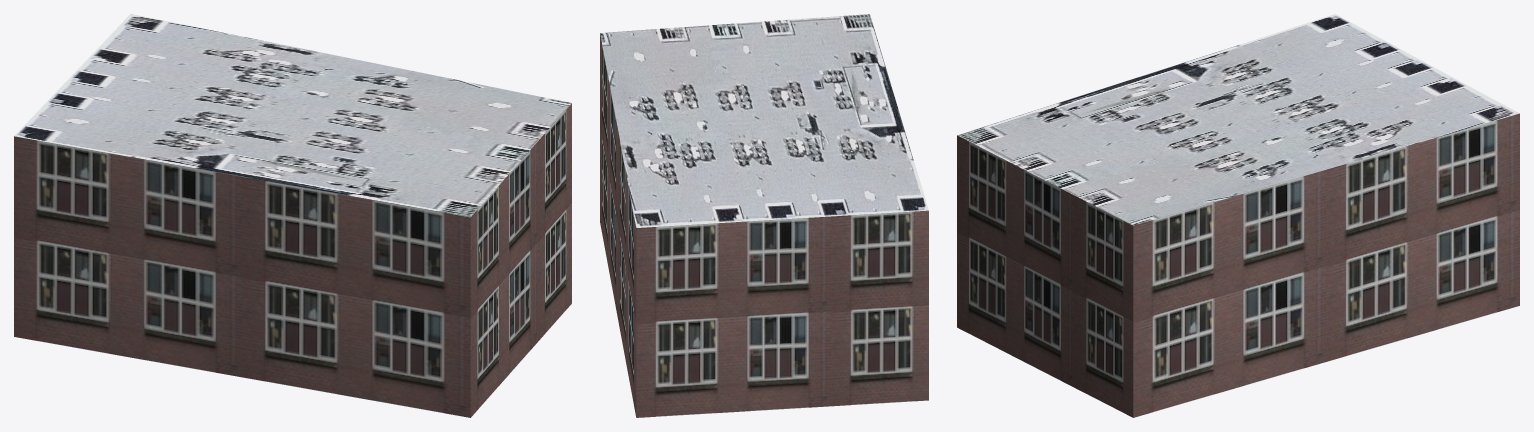
File: ResTex__1529.fbx
3 renders of one model, left to right at view 1: azimuth 30°, elevation 25°; view 2: azimuth 150°, elevation 25°; view 3: azimuth 270°, elevation 25°, orthographic. The views are drawn at different scales.
Visible parts, largest first — view 1: CityEngineMaterial_12_m, CityEngineMaterial_2_m; view 2: CityEngineMaterial_12_m, CityEngineMaterial_2_m; view 3: CityEngineMaterial_12_m, CityEngineMaterial_2_m.
Boxes of the visible parts, x1,y1,x2,y2 form: CityEngineMaterial_12_m: [14, 103, 571, 417]; CityEngineMaterial_2_m: [14, 14, 571, 217]; CityEngineMaterial_12_m: [600, 33, 928, 417]; CityEngineMaterial_2_m: [600, 14, 928, 227]; CityEngineMaterial_12_m: [957, 113, 1519, 417]; CityEngineMaterial_2_m: [957, 14, 1519, 225].
Bounding box in the file's own units: 14.17 × 6 × 15.91.
2 materials, 2 textured.
